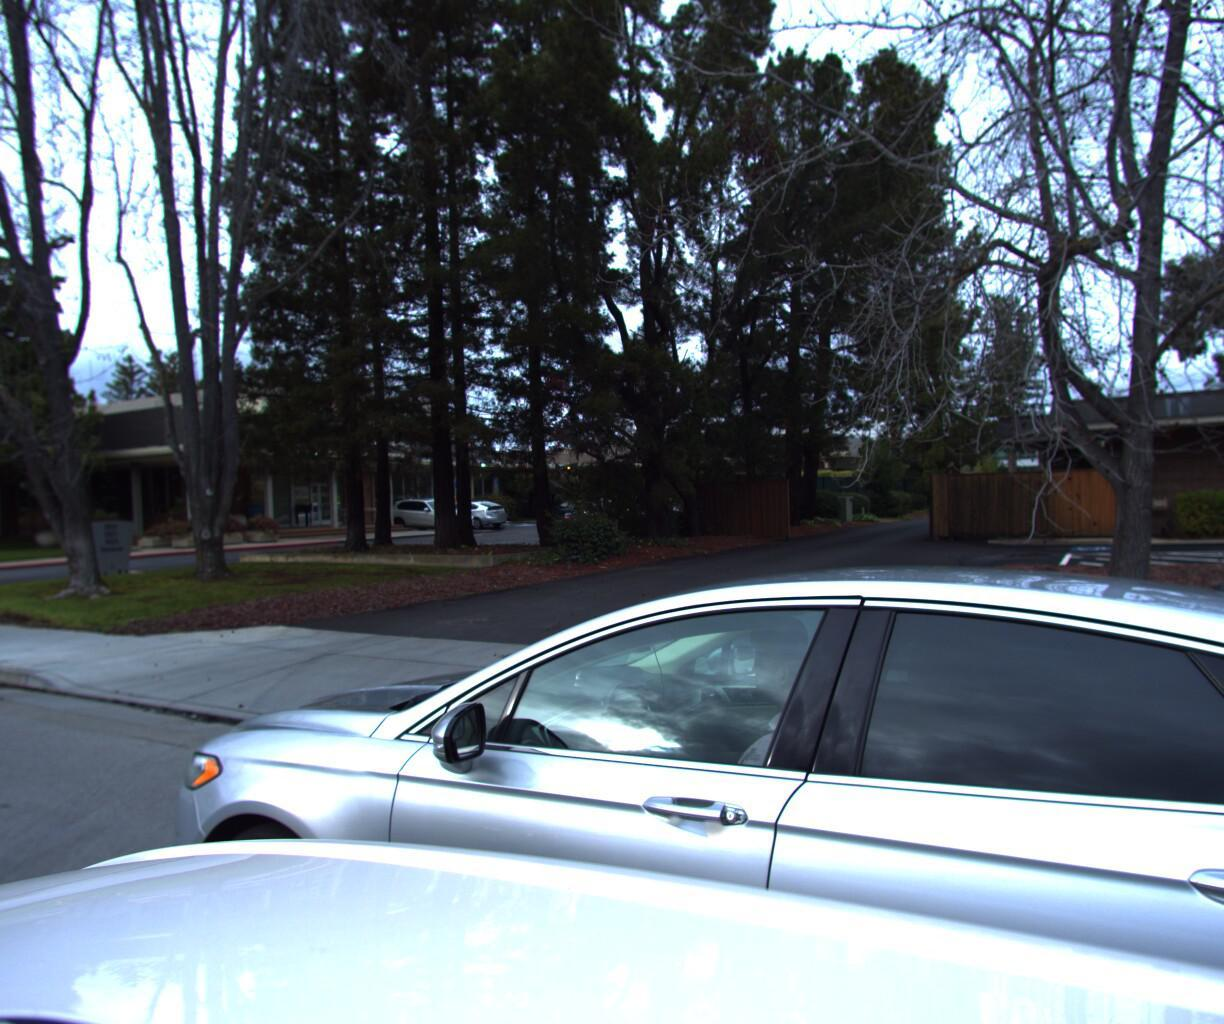car: (81, 454, 1224, 1024)
